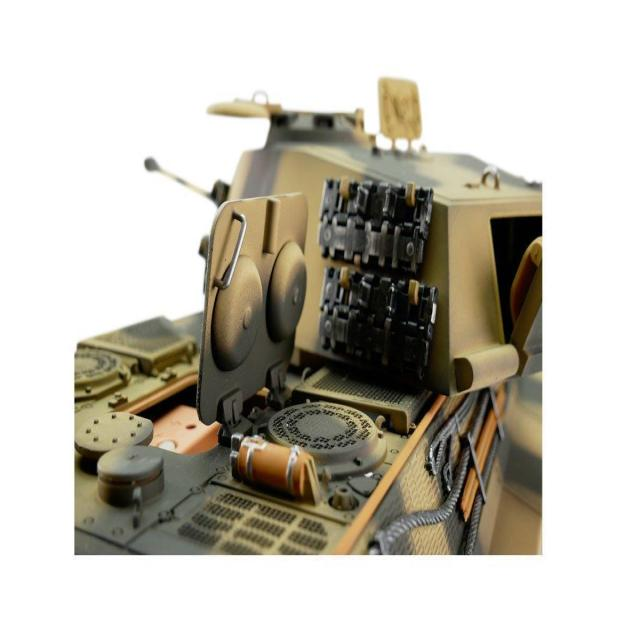Tanks: (71, 38, 573, 590)
